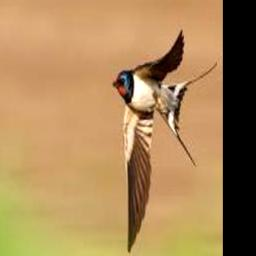Swallow: (111, 29, 217, 253)
